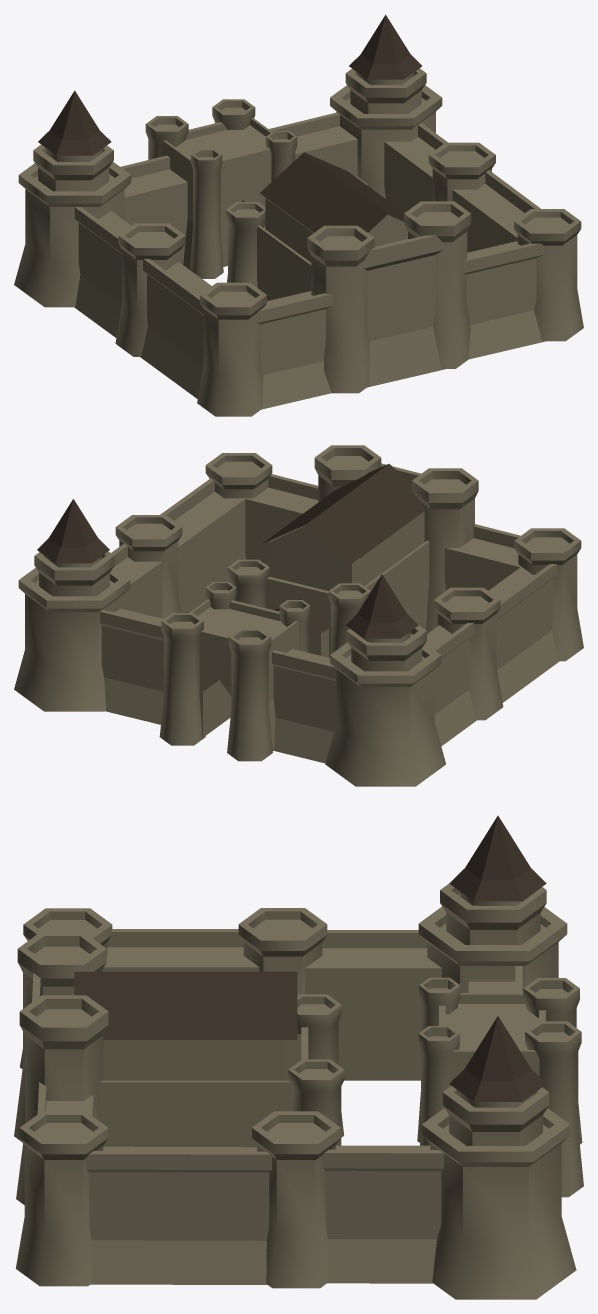
Rendered from castle_lite.glb.
The picture shows the model from 3 angles, top to bottom: view 1: azimuth 30°, elevation 25°; view 2: azimuth 150°, elevation 25°; view 3: azimuth 270°, elevation 25°; orthographic projection. The views are drawn at different scales.
Parts seen in each view (by area): view 1: Castle; view 2: Castle; view 3: Castle.
Part boxes in pixels (<box>): Castle: <box>14,14,583,416</box>; Castle: <box>14,445,583,786</box>; Castle: <box>14,815,583,1299</box>.
Bounding box in the file's own units: 1.38 × 0.6508 × 1.28.
